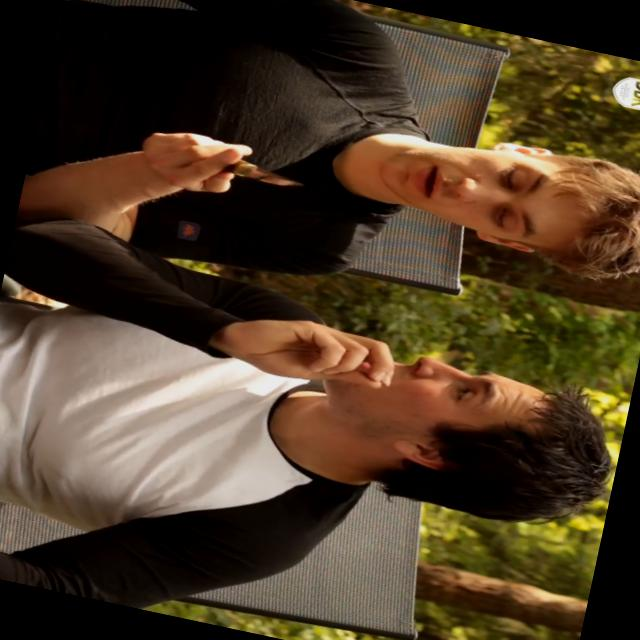knife: (166, 116, 331, 214)
